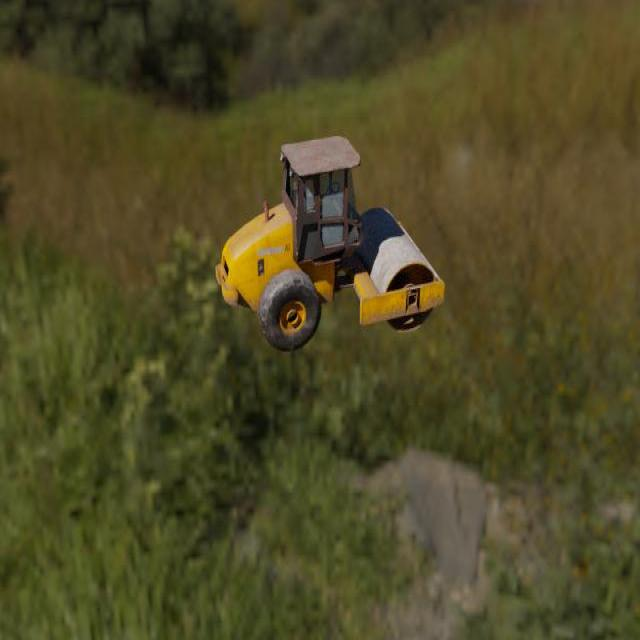Roller: (215, 135, 444, 352)
